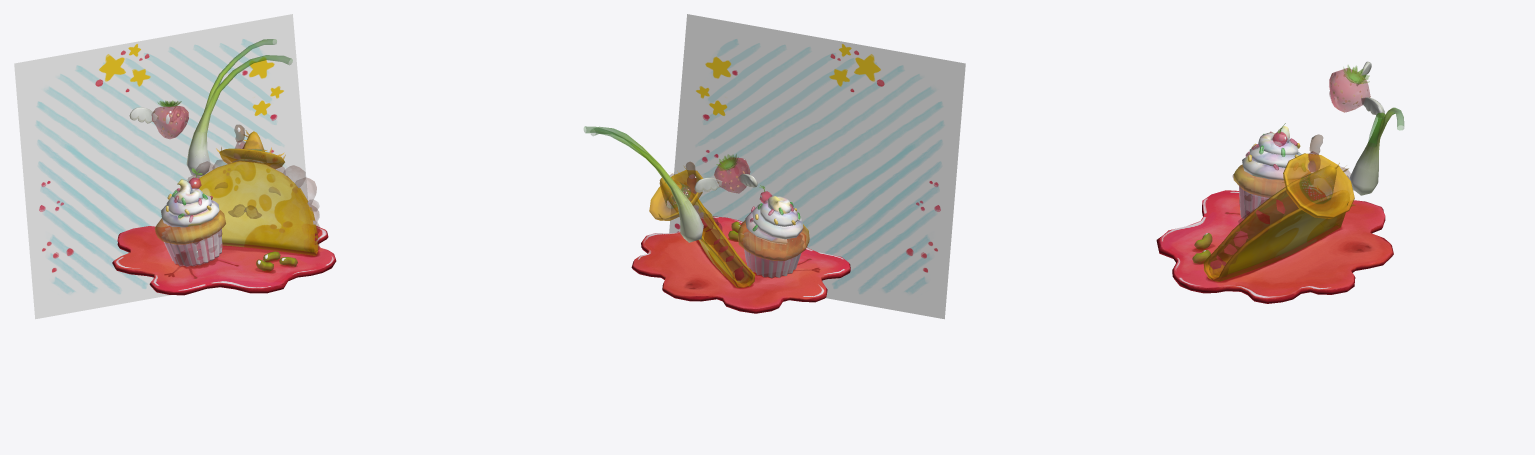
Rendered from Food_Party.glb.
The picture shows the model from 3 angles, left to right: view 1: azimuth 30°, elevation 25°; view 2: azimuth 150°, elevation 25°; view 3: azimuth 270°, elevation 25°; orthographic projection. The views are drawn at different scales.
Visible parts, largest first — view 1: pPlane1_BG_Base_0, base_BG_Base_0, taco_Food_shd_0, body_Food_shd_0 (×2), base_Food_shd_0, icing_Food_shd_0, cake_Food_shd_0, hat_Food_shd_0, onion_green_ext_Food_shd_0; view 2: pPlane1_BG_Base_0, base_BG_Base_0, body_Food_shd_0 (×2), icing_Food_shd_0, taco_Food_shd_0, base_Food_shd_0, cake_Food_shd_0, hat_Food_shd_0, onion_green_ext_Food_shd_0; view 3: base_BG_Base_0, taco_Food_shd_0, hat_Food_shd_0, body_Food_shd_0 (×2), icing_Food_shd_0, base_Food_shd_0, cake_Food_shd_0, filling_02_Food_shd_0, filling_01_Food_shd_0, filling_Food_shd_0.
Part boxes in pixels (bbox=[...]): pPlane1_BG_Base_0: bbox=[14, 14, 308, 319]; base_BG_Base_0: bbox=[112, 226, 336, 295]; taco_Food_shd_0: bbox=[192, 160, 318, 255]; body_Food_shd_0 (×2): bbox=[151, 55, 292, 176]; base_Food_shd_0: bbox=[161, 219, 222, 266]; icing_Food_shd_0: bbox=[161, 179, 219, 227]; cake_Food_shd_0: bbox=[154, 209, 225, 244]; hat_Food_shd_0: bbox=[219, 131, 284, 168]; onion_green_ext_Food_shd_0: bbox=[197, 39, 276, 131]; pPlane1_BG_Base_0: bbox=[669, 14, 965, 319]; base_BG_Base_0: bbox=[631, 216, 850, 313]; body_Food_shd_0 (×2): bbox=[591, 127, 750, 242]; icing_Food_shd_0: bbox=[745, 195, 803, 244]; taco_Food_shd_0: bbox=[668, 182, 755, 287]; base_Food_shd_0: bbox=[743, 230, 804, 277]; cake_Food_shd_0: bbox=[738, 220, 809, 260]; hat_Food_shd_0: bbox=[649, 170, 702, 220]; onion_green_ext_Food_shd_0: bbox=[584, 126, 685, 204]; base_BG_Base_0: bbox=[1156, 187, 1393, 303]; taco_Food_shd_0: bbox=[1203, 174, 1345, 281]; hat_Food_shd_0: bbox=[1283, 153, 1354, 218]; body_Food_shd_0 (×2): bbox=[1329, 68, 1385, 195]; icing_Food_shd_0: bbox=[1242, 126, 1307, 180]; base_Food_shd_0: bbox=[1239, 176, 1284, 219]; cake_Food_shd_0: bbox=[1233, 164, 1310, 197]; filling_02_Food_shd_0: bbox=[1238, 209, 1269, 238]; filling_01_Food_shd_0: bbox=[1256, 198, 1284, 223]; filling_Food_shd_0: bbox=[1213, 198, 1296, 275].
Bounding box in the file's own units: 54.99 × 48.66 × 79.04.
Materials: 2 (2 with a texture image).
